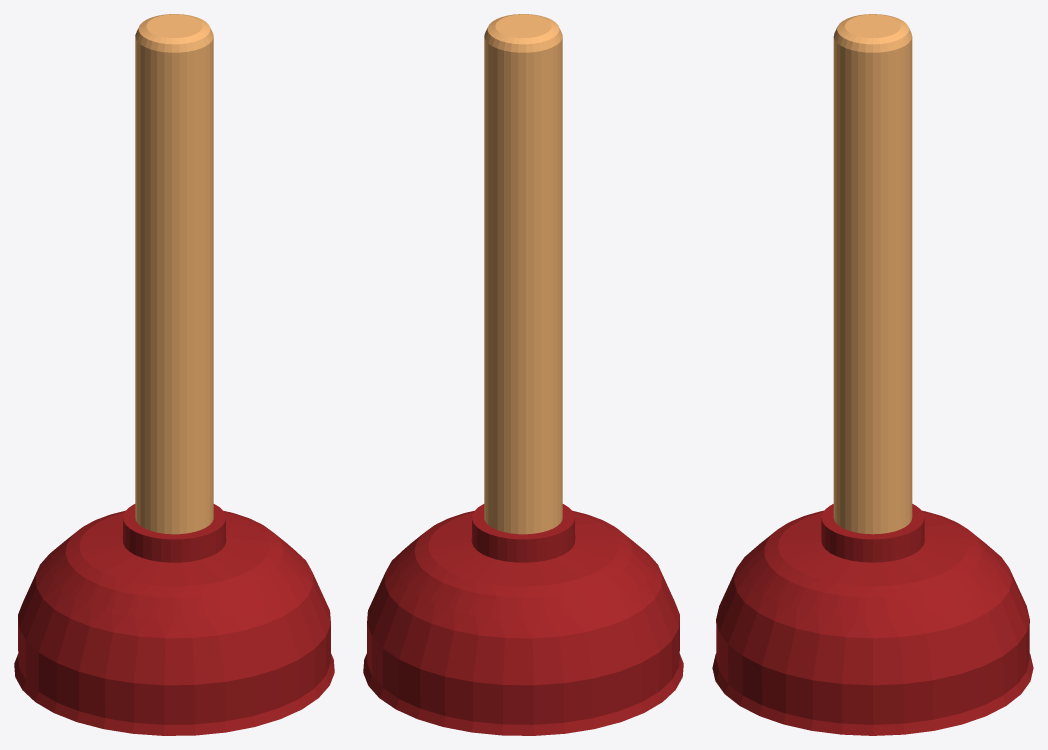
The model's file is Plunger.fbx.
3 renders of one model, left to right at view 1: azimuth 30°, elevation 25°; view 2: azimuth 150°, elevation 25°; view 3: azimuth 270°, elevation 25°, orthographic.
Visible parts, largest first — view 1: Cylinder; view 2: Cylinder; view 3: Cylinder.
Part boxes in pixels (x1,y1,x2,y2): Cylinder: (14,14,334,735); Cylinder: (363,14,683,735); Cylinder: (712,14,1033,735).
Size of the model in its own units: 403 by 890 by 403.
